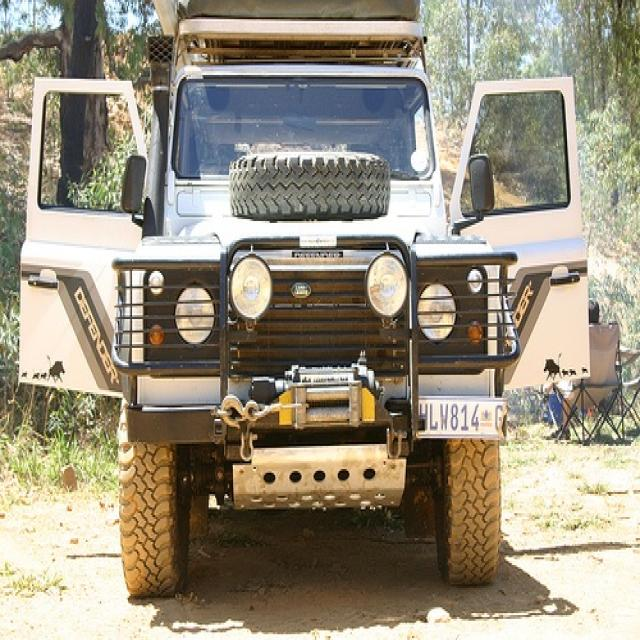car: (18, 0, 586, 598)
chair: (561, 325, 622, 440)
